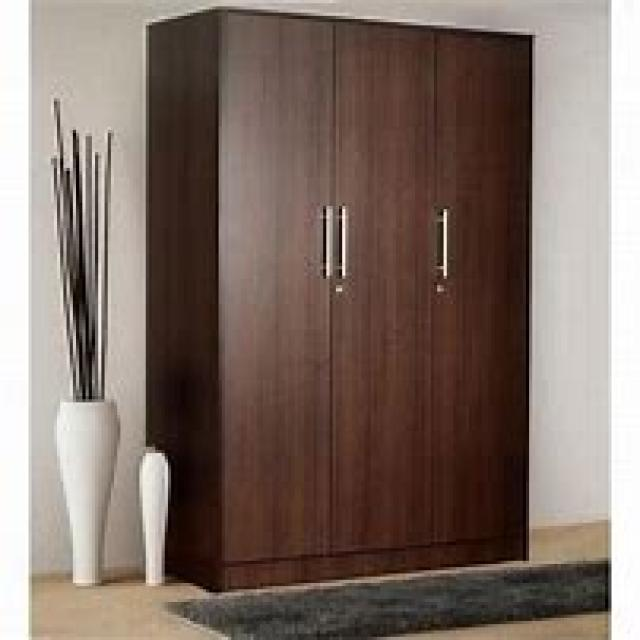dolap: (142, 3, 532, 593)
